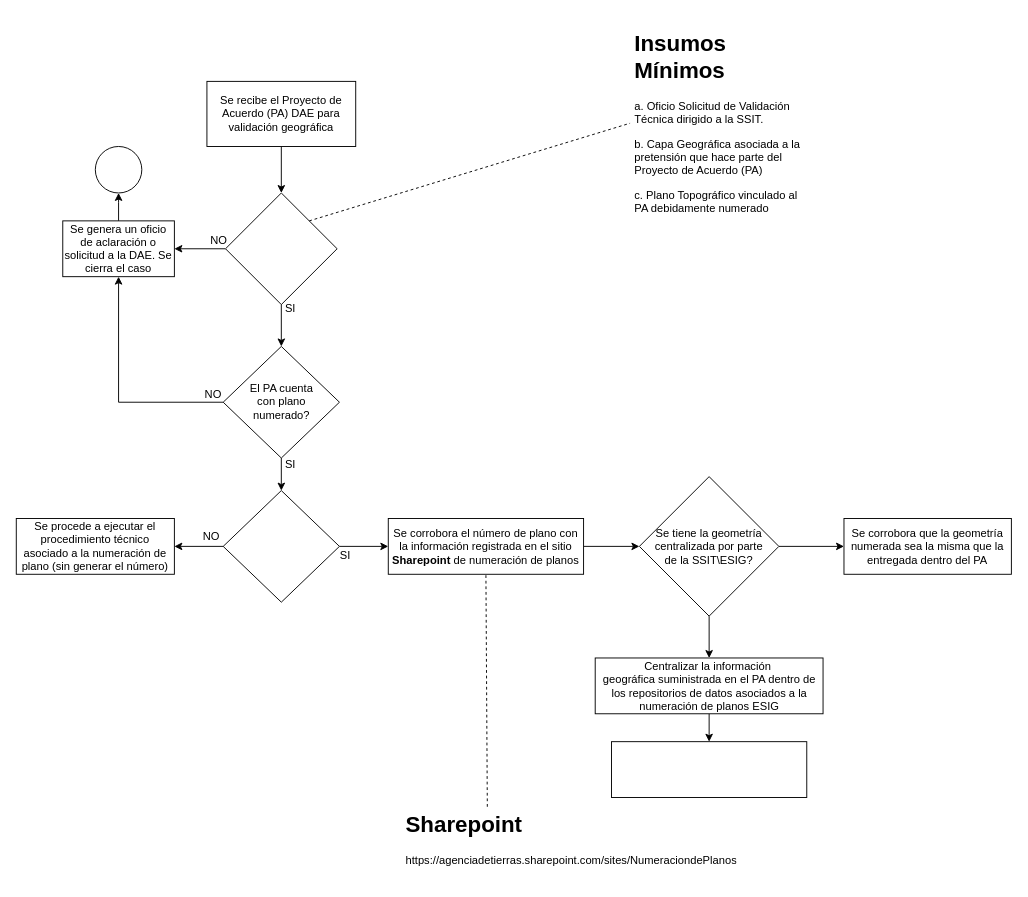
Some shapes in this 1028 by 897 pixel diagram are drawn without their labels. Here are the shapes that lost their labels. From the top down, the centre of each, then its label:
At point (118, 169): "FIN".
At point (281, 248): "Se entregan los insumos mínimos requeridos".
At point (280, 546): "El número de plano fue asignado por la SSIT\ANT?".
At point (709, 769): "Actualizar Sharepoint con la ruta de acceso a los datos geográficos".
